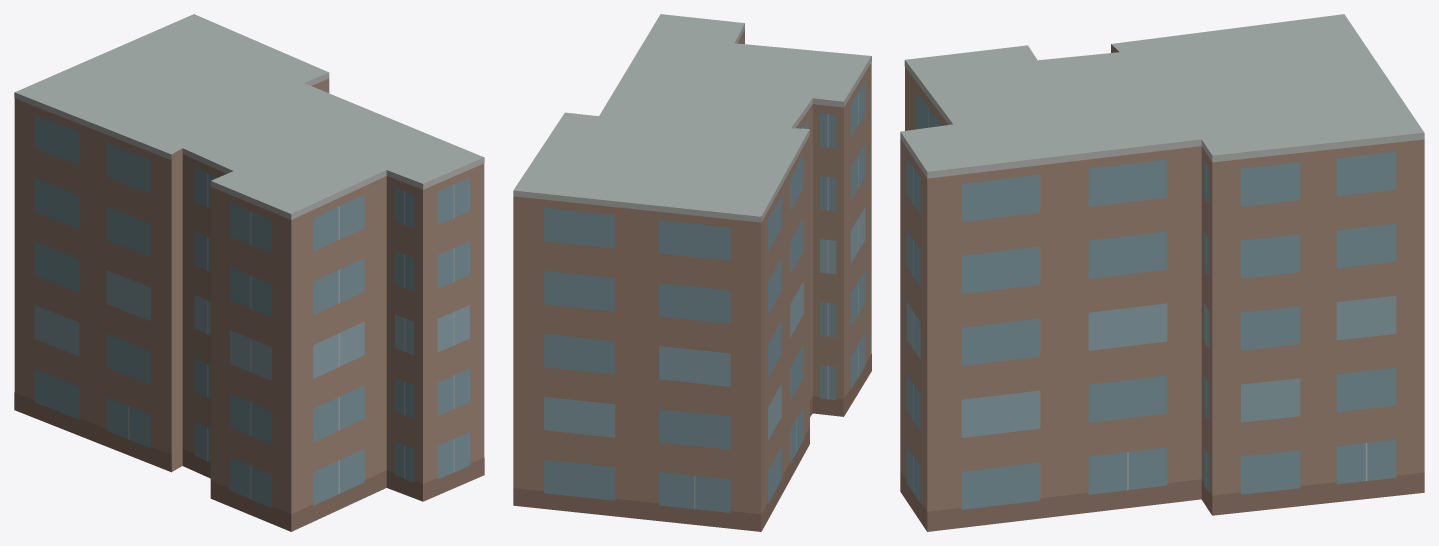
The model's file is survey-upis-32644194.glb.
3 views of the same model, side by side, from view 1: azimuth 30°, elevation 25°; view 2: azimuth 150°, elevation 25°; view 3: azimuth 270°, elevation 25° (orthographic). The views are drawn at different scales.
Visible parts, largest first — view 1: survey-upis-32644194.tmp; view 2: survey-upis-32644194.tmp; view 3: survey-upis-32644194.tmp.
Part boxes in pixels (<box>): survey-upis-32644194.tmp: <box>14,14,484,531</box>; survey-upis-32644194.tmp: <box>513,14,871,531</box>; survey-upis-32644194.tmp: <box>900,14,1424,531</box>.
Bounding box in the file's own units: 12.44 × 13.2 × 17.43.
